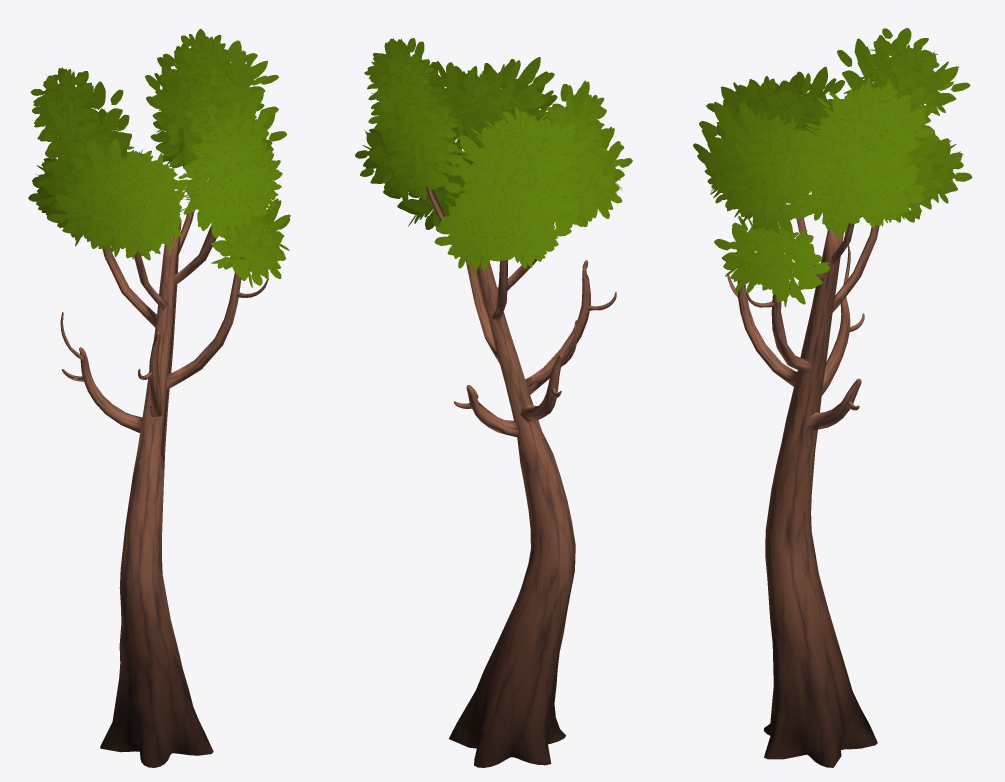
The picture shows the model from 3 angles, left to right: view 1: azimuth 30°, elevation 25°; view 2: azimuth 150°, elevation 25°; view 3: azimuth 270°, elevation 25°; orthographic projection. The views are drawn at different scales.
Parts seen in each view (by area): view 1: CommonTree_4; view 2: CommonTree_4; view 3: CommonTree_4.
Boxes of the visible parts, x1,y1,x2,y2 form: CommonTree_4: (28,29,290,767); CommonTree_4: (355,38,632,767); CommonTree_4: (693,28,972,767).
Size of the model in its own units: 3.83 by 9.44 by 3.76.
2 materials, 2 textured.
